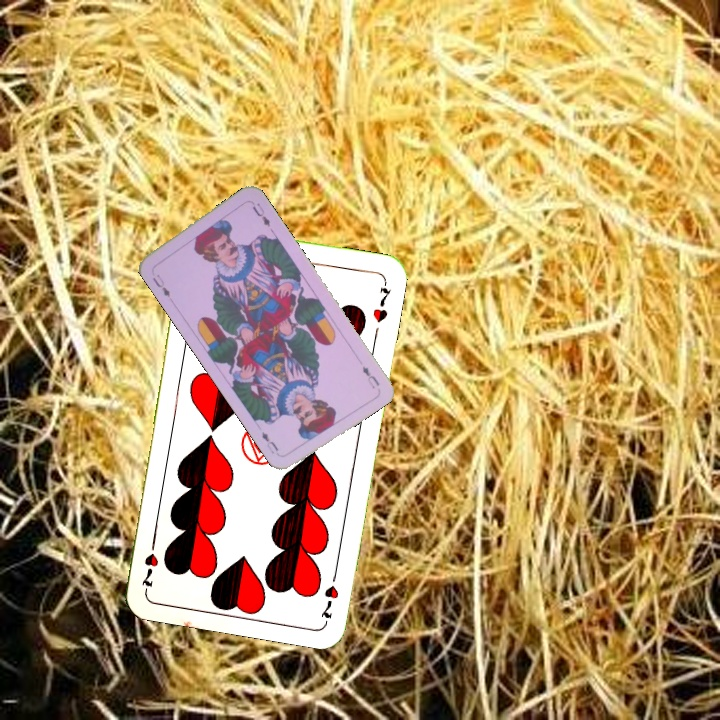EU: (148, 270, 173, 300), (358, 362, 382, 392)
H7: (316, 565, 341, 624)
